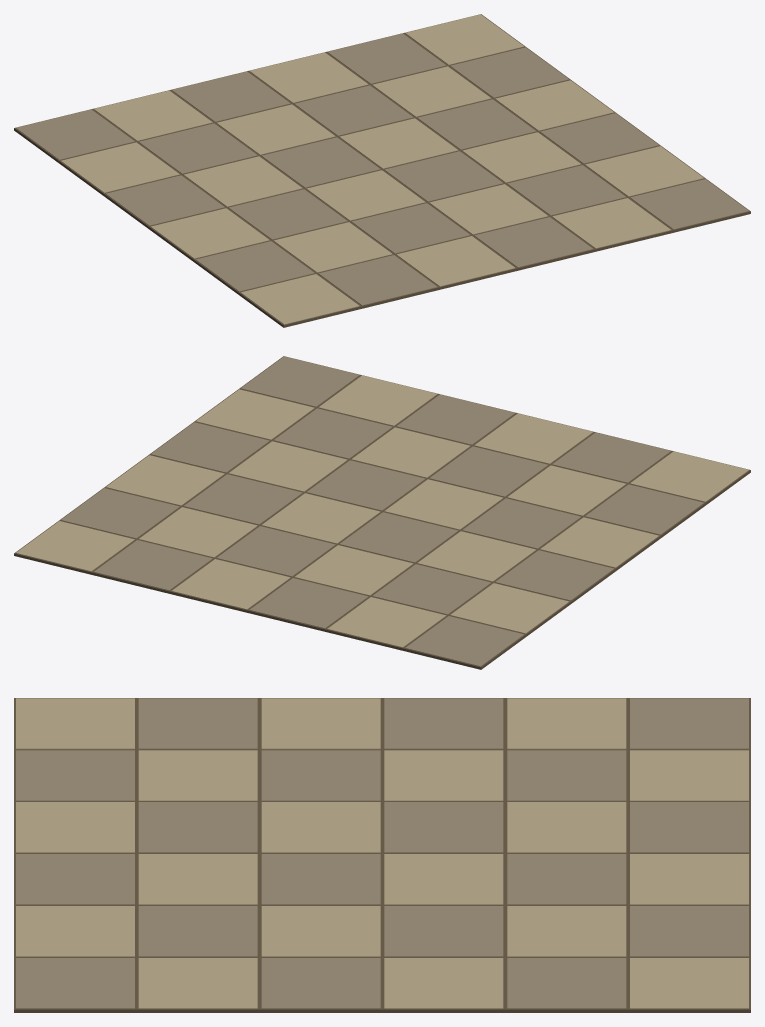
File: env_plaza.glb
3 views of the same model, one above another, from view 1: azimuth 30°, elevation 25°; view 2: azimuth 150°, elevation 25°; view 3: azimuth 270°, elevation 25° (orthographic). The views are drawn at different scales.
Parts seen in each view (by area): view 1: ENV_Plaza; view 2: ENV_Plaza; view 3: ENV_Plaza.
Part boxes in pixels (x1,y1,x2,y2): ENV_Plaza: (14, 14, 750, 327); ENV_Plaza: (14, 356, 750, 669); ENV_Plaza: (14, 698, 750, 1012).
Bounding box in the file's own units: 12 × 0.08 × 12.
